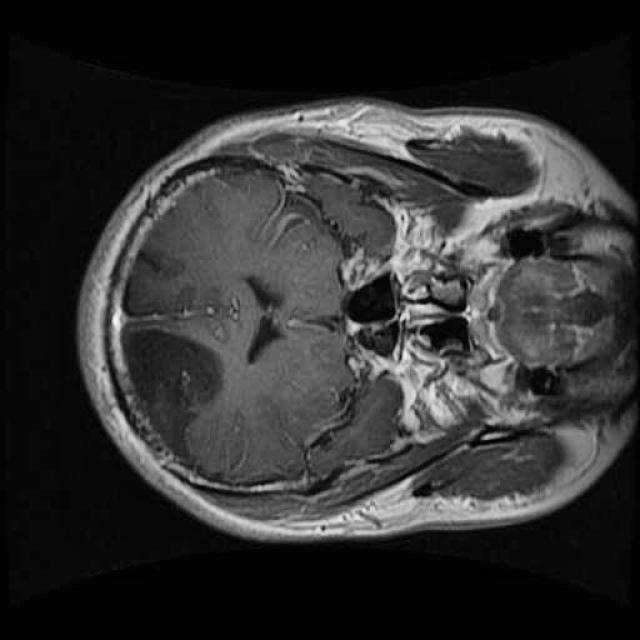Tumor: (99, 308, 252, 497)
